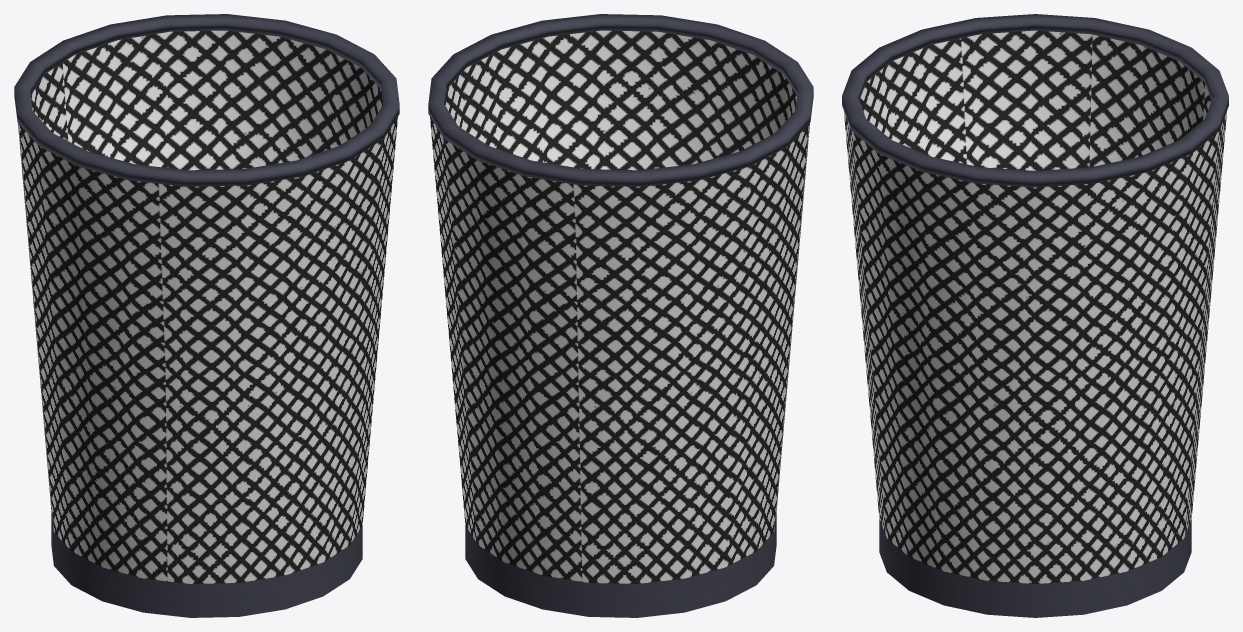
Rendered from desk_bin.glb.
The picture shows the model from 3 angles, left to right: view 1: azimuth 30°, elevation 25°; view 2: azimuth 150°, elevation 25°; view 3: azimuth 270°, elevation 25°; orthographic projection.
Parts seen in each view (by area): view 1: desk_bin; view 2: desk_bin; view 3: desk_bin.
Boxes of the visible parts, x1,y1,x2,y2 form: desk_bin: [14, 14, 399, 617]; desk_bin: [428, 14, 813, 617]; desk_bin: [842, 14, 1228, 617].
Bounding box in the file's own units: 0.5941 × 0.7729 × 0.5941.
Materials: 2 (2 with a texture image).
